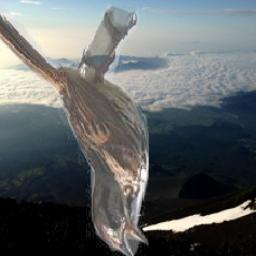Sparrow: (0, 5, 149, 256)
